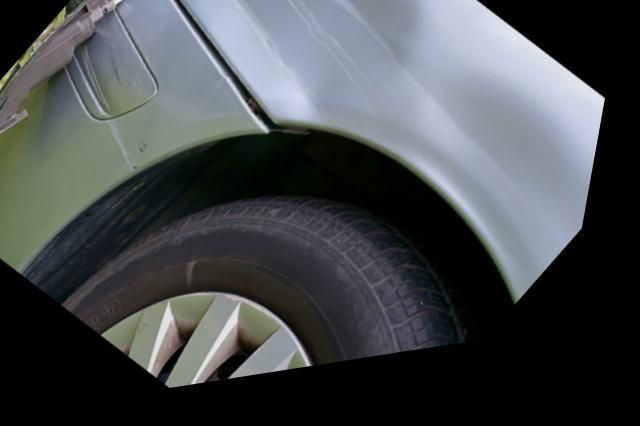dent: (204, 0, 587, 269)
scratch: (72, 44, 150, 125), (109, 124, 155, 178)
